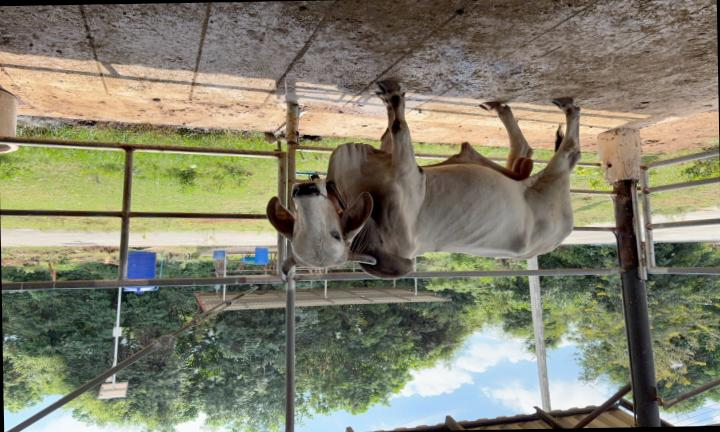Brahman: (266, 82, 580, 280)
